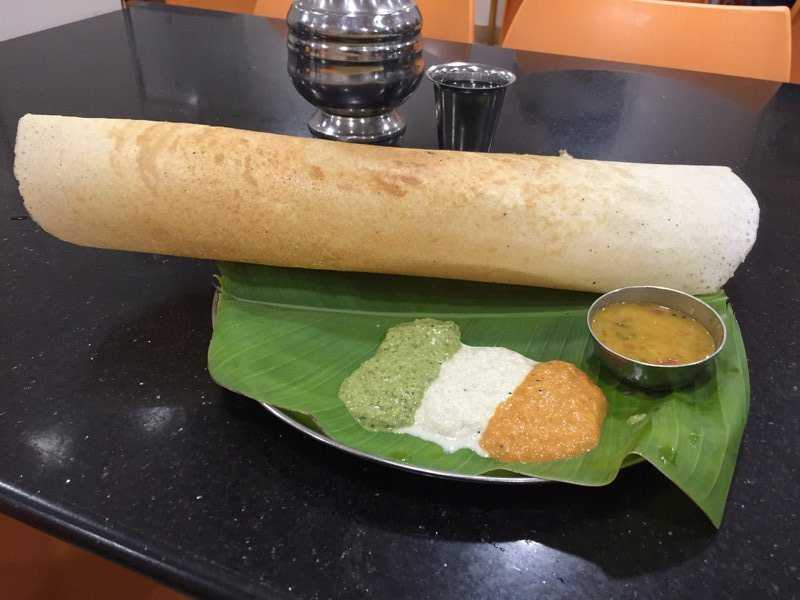dosa: (10, 109, 764, 300)
